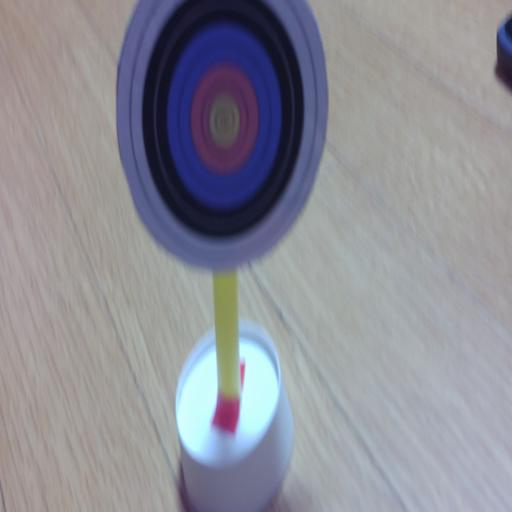target: (116, 0, 328, 272)
